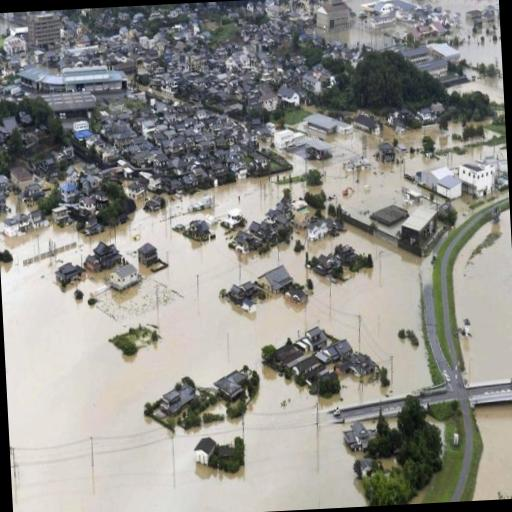house: (456, 156, 500, 202), (62, 67, 128, 95), (418, 164, 464, 203), (26, 10, 66, 53), (399, 206, 440, 246), (256, 263, 304, 297), (158, 382, 199, 416), (302, 112, 352, 138), (316, 2, 352, 36), (86, 240, 124, 272), (213, 368, 248, 402), (54, 257, 86, 291), (272, 341, 304, 371), (108, 262, 139, 292), (191, 436, 219, 468), (304, 136, 335, 164), (136, 240, 160, 272), (428, 42, 462, 61), (302, 326, 328, 350), (184, 218, 210, 242), (350, 421, 371, 450), (420, 60, 450, 80), (351, 352, 374, 378), (229, 280, 256, 302), (278, 87, 302, 111), (404, 46, 432, 66), (14, 182, 44, 200), (332, 336, 354, 360), (306, 218, 328, 242), (8, 166, 32, 186), (378, 140, 396, 166), (352, 114, 378, 132), (272, 128, 294, 149), (372, 0, 396, 17), (126, 182, 146, 202), (59, 181, 77, 203), (233, 230, 254, 248), (51, 204, 69, 222), (2, 218, 18, 238), (78, 197, 98, 212), (275, 214, 290, 229), (292, 130, 306, 146), (418, 108, 434, 122), (30, 209, 44, 224), (73, 120, 89, 131), (248, 220, 260, 234), (0, 172, 8, 191), (260, 220, 271, 233)
